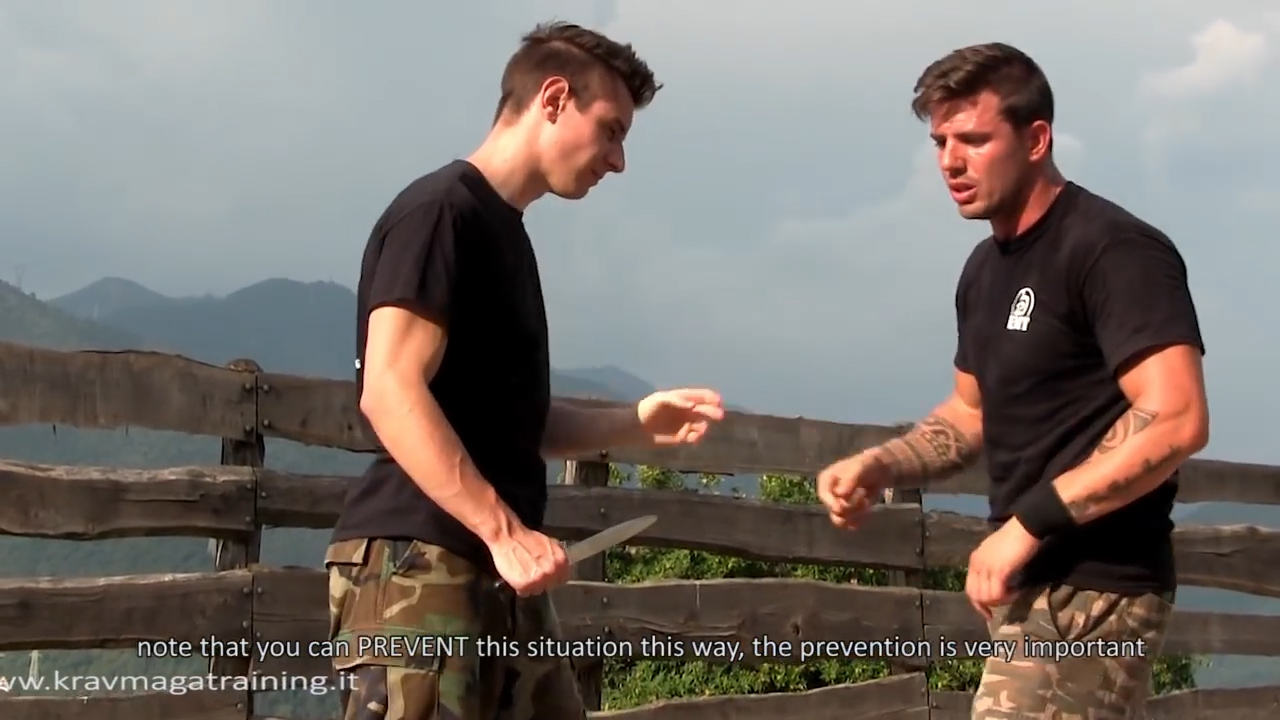knife: (485, 499, 672, 604)
